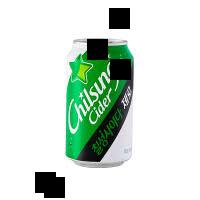chilsungcider_zero: (58, 34, 140, 170)
